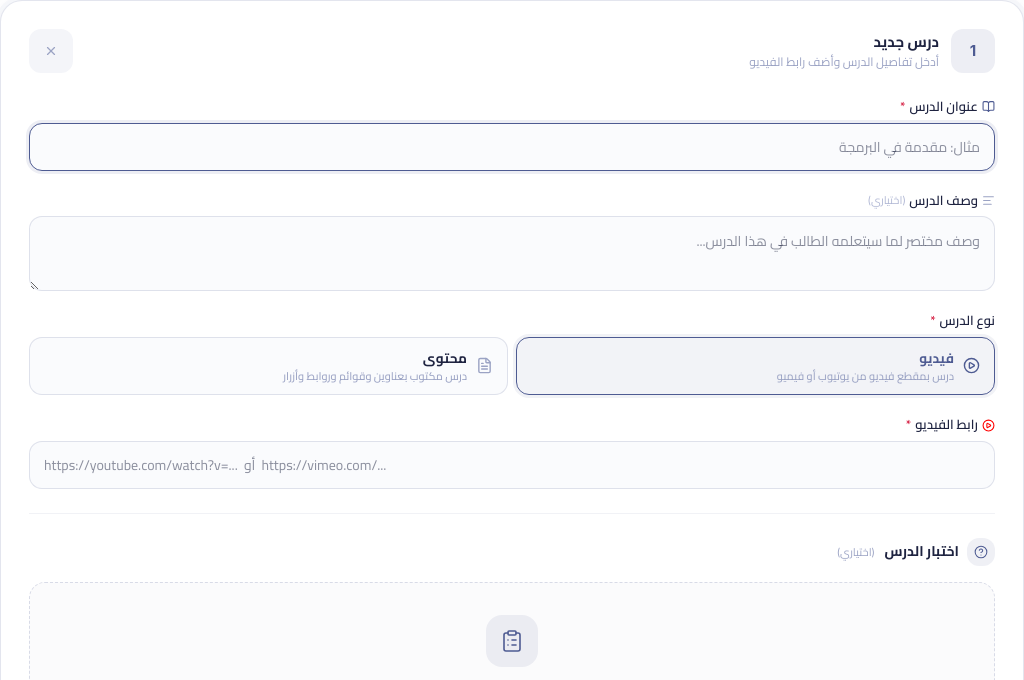
Scenario: LessonForm video input › says the link is malformed for something that is not a web address
This screenshot has width=1024, height=680.
Type "just some text" into the field with placeholder "https://youtube.com/watch?v=... أو https://vimeo.com/..." at (512, 465), box top-left (29, 441), bottom-right (995, 489)
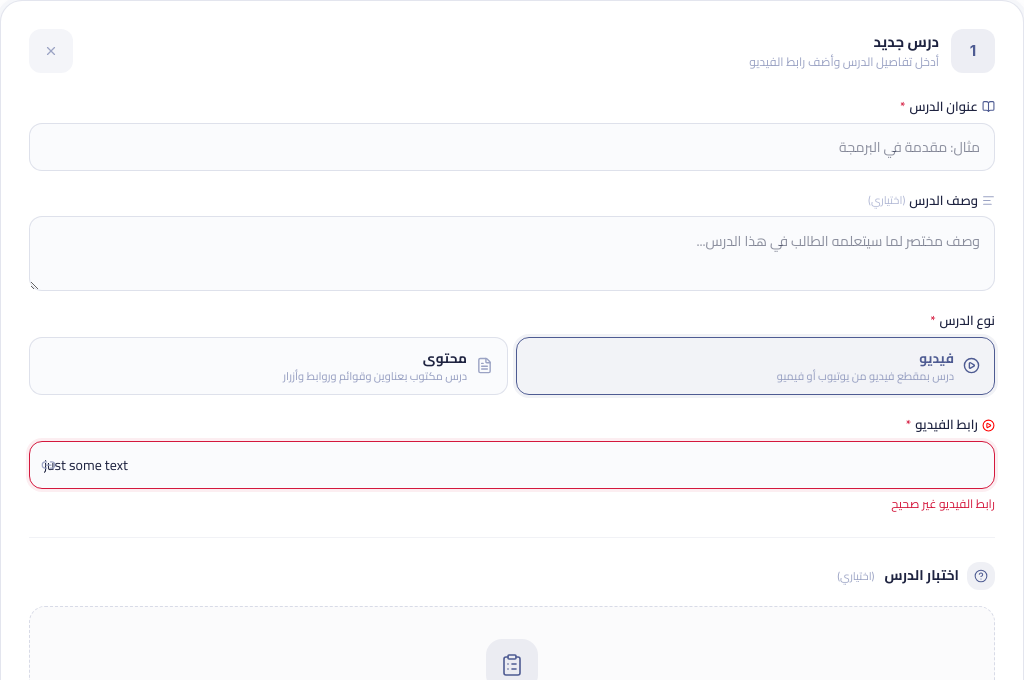
Check: the text "رابط الفيديو غير صحيح" is shown, box top-left (891, 492), bottom-right (995, 515)
